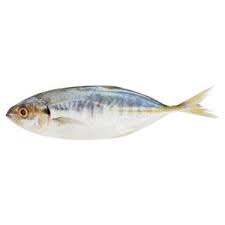Ikan Selar: (4, 84, 212, 140)
